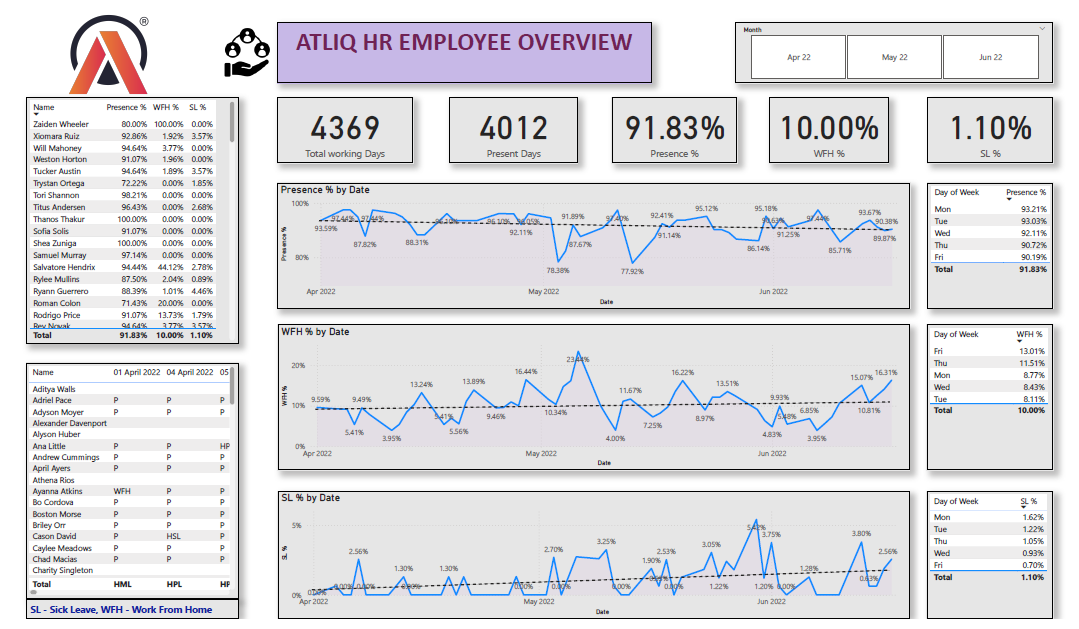

What the dashboard file says about the page in this screenshot:
{"tool":"powerbi","page":{"name":"Page 1","canvas":[1800,1020],"ordinal":0},"visuals":[{"type":"card","fields":{"Values":["Measure Table.Total working Days"]},"box":[449.2,146.3,227.6,109.8],"z":0},{"type":"card","fields":{"Values":["Measure Table.Present Days"]},"box":[737.8,146.3,215.4,109.8],"z":1000},{"type":"card","fields":{"Values":["Measure Table.Presence %"]},"box":[1010.2,146.3,209.3,109.8],"z":2000},{"type":"slicer","fields":{"Values":["Final Data.Month"]},"box":[1217.5,20.3,532.5,101.6],"z":3000},{"type":"card","fields":{"Values":["Measure Table.WFH %"]},"box":[1274.4,146.3,199.2,109.8],"z":4000},{"type":"card","fields":{"Values":["Measure Table.SL %"]},"box":[1538.6,146.3,211.4,109.8],"z":5000},{"type":"tableEx","fields":{"Values":["Final Data.Name","Measure Table.Presence %","Measure Table.WFH %","Measure Table.SL %"]},"box":[28.5,146.3,355.7,412.6],"z":6000},{"type":"textbox","box":[449.2,20.3,628,101.6],"z":7000},{"type":"pivotTable","fields":{"Values":["Min(Final Data.Value)"],"Rows":["Final Data.Name"],"Columns":["Final Data.Date"]},"box":[28.5,591.5,355.7,394.3],"z":8000},{"type":"areaChart","fields":{"Category":["Final Data.Date"],"Y":["Measure Table.Presence %"]},"box":[449.2,288.6,1061,211.4],"z":9000},{"type":"areaChart","fields":{"Category":["Final Data.Date"],"Y":["Measure Table.WFH %"]},"box":[449.9,526.6,1059.4,244.6],"z":10000},{"type":"areaChart","fields":{"Category":["Final Data.Date"],"Y":["Measure Table.SL %"]},"box":[449.9,806.5,1059.4,213.5],"z":11000},{"type":"tableEx","fields":{"Values":["Final Data.Day of Week","Measure Table.Presence %"]},"box":[1538.6,288.6,211.4,211.4],"z":12000},{"type":"tableEx","fields":{"Values":["Final Data.Day of Week","Measure Table.WFH %"]},"box":[1538.3,526.6,211.5,244.6],"z":13000},{"type":"tableEx","fields":{"Values":["Final Data.Day of Week","Measure Table.SL %"]},"box":[1538.3,806.5,211.5,213.5],"z":14000},{"type":"image","box":[308.9,20.3,178.9,101.6],"z":14001},{"type":"image","box":[28.5,0,280.5,146.3],"z":14002},{"type":"textbox","box":[29,986.8,354.5,33.2],"z":14003}]}

Visuals, with their boxes in screenshot pixels (x1, y1, x2, y2), scaled from the page's 1800x1020 canvas onto the 1079x629 screenshot:
card - Measure Table.Total working Days: (269,90,406,158)
card - Measure Table.Present Days: (442,90,571,158)
card - Measure Table.Presence %: (606,90,731,158)
slicer - Final Data.Month: (730,13,1049,75)
card - Measure Table.WFH %: (764,90,883,158)
card - Measure Table.SL %: (922,90,1049,158)
tableEx - Final Data.Name x Measure Table.Presence %: (17,90,230,345)
textbox: (269,13,646,75)
pivotTable - Min(Final Data.Value) x Final Data.Name: (17,365,230,608)
areaChart - Final Data.Date x Measure Table.Presence %: (269,178,905,308)
areaChart - Final Data.Date x Measure Table.WFH %: (270,325,905,476)
areaChart - Final Data.Date x Measure Table.SL %: (270,497,905,628)
tableEx - Final Data.Day of Week x Measure Table.Presence %: (922,178,1049,308)
tableEx - Final Data.Day of Week x Measure Table.WFH %: (922,325,1049,476)
tableEx - Final Data.Day of Week x Measure Table.SL %: (922,497,1049,628)
image: (185,13,292,75)
image: (17,0,185,90)
textbox: (17,609,230,628)
